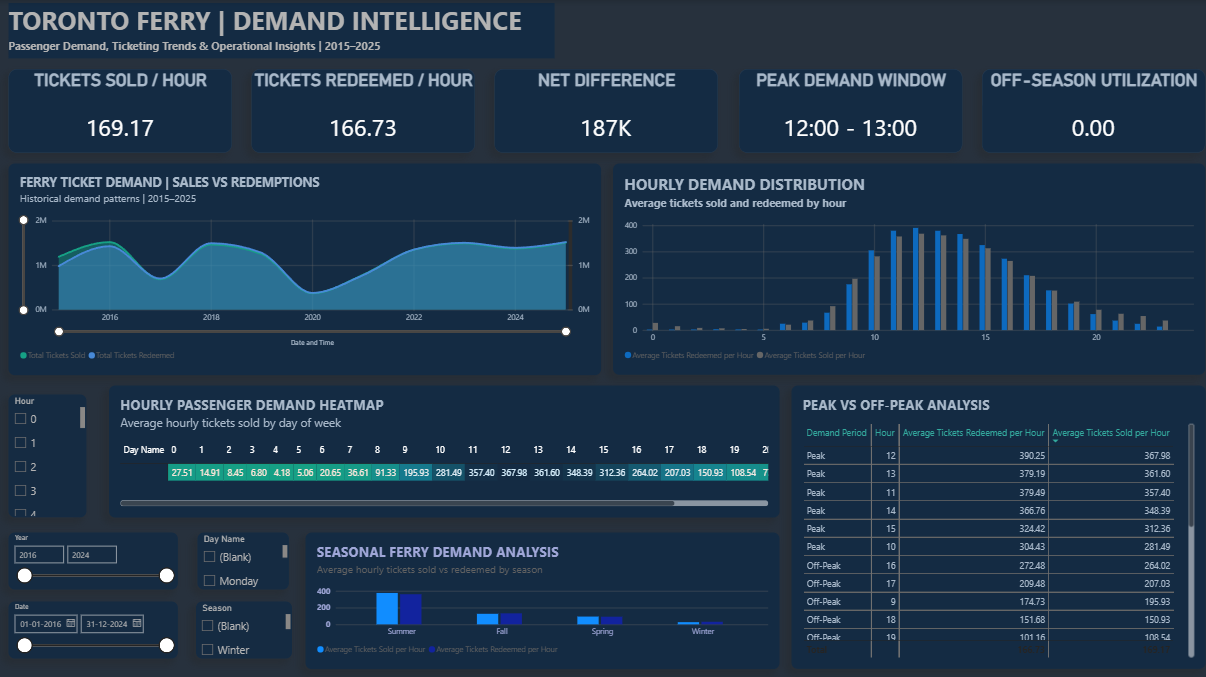

What the dashboard file says about the page in this screenshot:
{"tool":"powerbi","page":{"name":"Page 1","canvas":[1920,1080],"ordinal":0},"visuals":[{"type":"cardVisual","title":"TICKETS SOLD / HOUR","fields":{"Data":["KPI Measures.Average Tickets Sold per Hour"]},"box":[16.7,109.8,355.5,133.6],"z":0},{"type":"cardVisual","title":"TICKETS REDEEMED / HOUR","fields":{"Data":["KPI Measures.Average Tickets Redeemed per Hour"]},"box":[403.8,109.8,355.5,133.6],"z":1000},{"type":"cardVisual","title":"NET DIFFERENCE","fields":{"Data":["KPI Measures.Net Ticket Difference"]},"box":[790.9,109.8,355.5,133.6],"z":2000},{"type":"cardVisual","title":"PEAK DEMAND WINDOW","fields":{"Data":["KPI Measures.Peak Demand Window"]},"box":[1178,109.8,355.5,133.6],"z":3000},{"type":"cardVisual","title":"OFF-SEASON UTILIZATION","fields":{"Data":["KPI Measures.Off Season Utilization Index"]},"box":[1564.5,109.8,355.5,133.6],"z":4000},{"type":"lineChart","title":"FERRY TICKET DEMAND | SALES VS REDEMPTIONS","fields":{"Category":["Toronto Island Ferry Tickets.Hour Start.Variation.Date Hierarchy.Year","Toronto Island Ferry Tickets.Hour Start.Variation.Date Hierarchy.Quarter","Toronto Island Ferry Tickets.Hour Start.Variation.Date Hierarchy.Month","Toronto Island Ferry Tickets.Hour Start.Variation.Date Hierarchy.Day"],"Y":["KPI Measures.Total Tickets Sold"],"Y2":["KPI Measures.Total Tickets Redeemed"]},"box":[16.7,260.1,942.4,336.4],"z":5000},{"type":"pivotTable","title":"HOURLY PASSENGER DEMAND HEATMAP","fields":{"Columns":["Toronto Island Ferry Tickets.Hour"],"Rows":["Calendar.Day Name"],"Values":["KPI Measures.Average Tickets Sold per Hour"]},"box":[176.6,613.2,1066.5,210],"z":6000},{"type":"clusteredColumnChart","title":"HOURLY DEMAND DISTRIBUTION","fields":{"Category":["Toronto Island Ferry Tickets.Hour"],"Y":["KPI Measures.Average Tickets Redeemed per Hour","KPI Measures.Average Tickets Sold per Hour"]},"box":[978.2,260.1,942,336],"z":7000},{"type":"tableEx","title":"PEAK VS OFF-PEAK ANALYSIS","fields":{"Values":["Toronto Island Ferry Tickets.Demand Period","Toronto Island Ferry Tickets.Hour","KPI Measures.Average Tickets Redeemed per Hour","KPI Measures.Average Tickets Sold per Hour"]},"box":[1262.1,613.2,658.5,450.9],"z":8000},{"type":"clusteredColumnChart","title":"SEASONAL FERRY DEMAND ANALYSIS","fields":{"Category":["Toronto Island Ferry Tickets.Season"],"Y":["KPI Measures.Average Tickets Sold per Hour","KPI Measures.Average Tickets Redeemed per Hour"]},"box":[489.1,847,753.9,217.1],"z":9000},{"type":"slicer","fields":{"Values":["Calendar.Date"]},"box":[16.7,956.8,269.6,90.7],"z":10000},{"type":"slicer","fields":{"Values":["Toronto Island Ferry Tickets.Hour"]},"box":[16.7,627.5,124.1,195.6],"z":10001},{"type":"slicer","fields":{"Values":["Calendar.Day Name"]},"box":[317.3,847,145.5,90.7],"z":10002},{"type":"slicer","fields":{"Values":["Calendar.Year"]},"box":[16.7,847,269.6,90.7],"z":10003},{"type":"slicer","fields":{"Values":["Calendar.Season"]},"box":[314.9,956.8,152.7,90.7],"z":10004},{"type":"textbox","title":"TORONTO FERRY | DEMAND INTELLIGENCE","box":[16.7,4.8,868.5,88.3],"z":10005}]}

Visuals, with their boxes in screenshot pixels (x1, y1, x2, y2), scaled from the page's 1920x1080 canvas onto the 1206x677 screenshot:
"TICKETS SOLD / HOUR" cardVisual: <bbox>10, 69, 234, 153</bbox>
"TICKETS REDEEMED / HOUR" cardVisual: <bbox>254, 69, 477, 153</bbox>
"NET DIFFERENCE" cardVisual: <bbox>497, 69, 720, 153</bbox>
"PEAK DEMAND WINDOW" cardVisual: <bbox>740, 69, 963, 153</bbox>
"OFF-SEASON UTILIZATION" cardVisual: <bbox>983, 69, 1205, 153</bbox>
"FERRY TICKET DEMAND | SALES VS REDEMPTIONS" lineChart: <bbox>10, 163, 602, 374</bbox>
"HOURLY PASSENGER DEMAND HEATMAP" pivotTable: <bbox>111, 384, 781, 516</bbox>
"HOURLY DEMAND DISTRIBUTION" clusteredColumnChart: <bbox>614, 163, 1205, 374</bbox>
"PEAK VS OFF-PEAK ANALYSIS" tableEx: <bbox>793, 384, 1205, 667</bbox>
"SEASONAL FERRY DEMAND ANALYSIS" clusteredColumnChart: <bbox>307, 531, 781, 667</bbox>
slicer - Calendar.Date: <bbox>10, 600, 180, 657</bbox>
slicer - Toronto Island Ferry Tickets.Hour: <bbox>10, 393, 88, 516</bbox>
slicer - Calendar.Day Name: <bbox>199, 531, 291, 588</bbox>
slicer - Calendar.Year: <bbox>10, 531, 180, 588</bbox>
slicer - Calendar.Season: <bbox>198, 600, 294, 657</bbox>
"TORONTO FERRY | DEMAND INTELLIGENCE" textbox: <bbox>10, 3, 556, 58</bbox>
